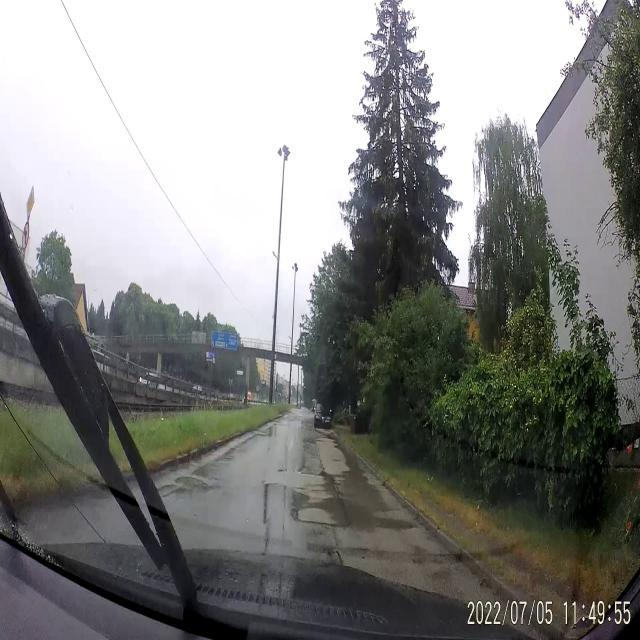Pothole: (295, 492, 343, 535), (174, 472, 212, 494), (277, 464, 289, 476)
